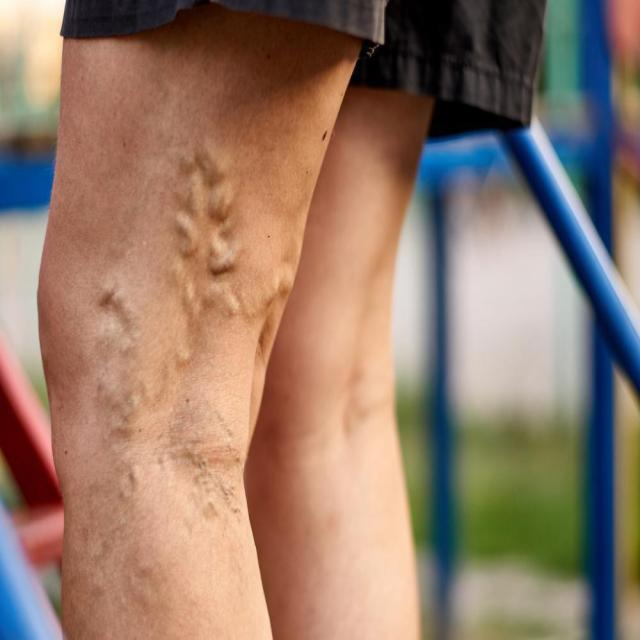Varicose: (43, 107, 303, 569)
